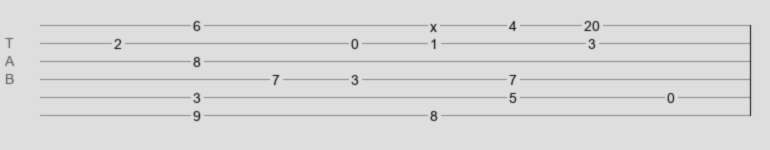0: (351, 36, 359, 46), (667, 90, 675, 100)
1: (430, 36, 438, 46)
2: (114, 36, 122, 46)
20: (584, 18, 600, 28)
3: (193, 90, 201, 100), (351, 72, 359, 82), (588, 36, 596, 46)
4: (509, 18, 517, 28)
5: (509, 90, 517, 100)
6: (193, 18, 201, 28)
7: (272, 72, 280, 82), (509, 72, 517, 82)
8: (193, 54, 201, 64), (430, 108, 438, 118)
9: (193, 108, 201, 118)
x: (430, 19, 437, 27)
